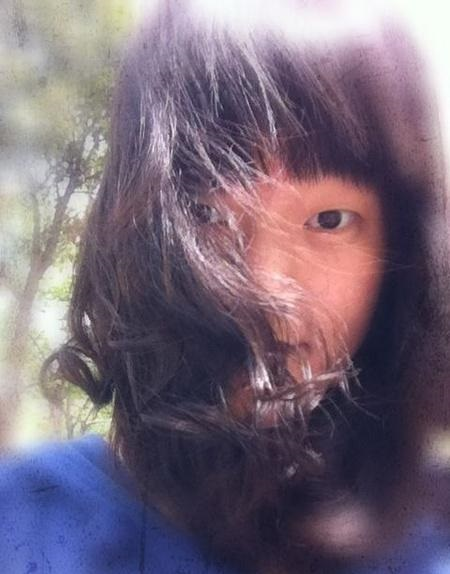face: (163, 72, 391, 439)
